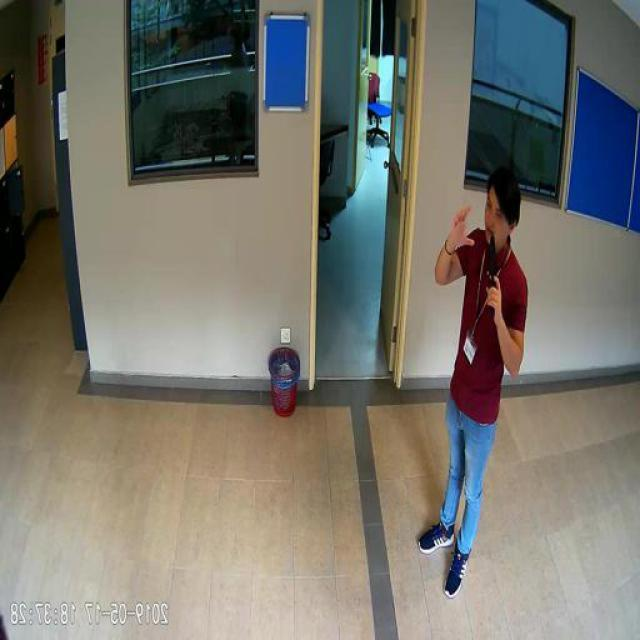weapon: (484, 236, 504, 310)
